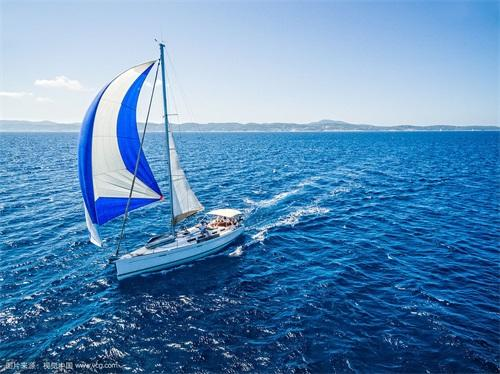Ship: (81, 43, 247, 281)
